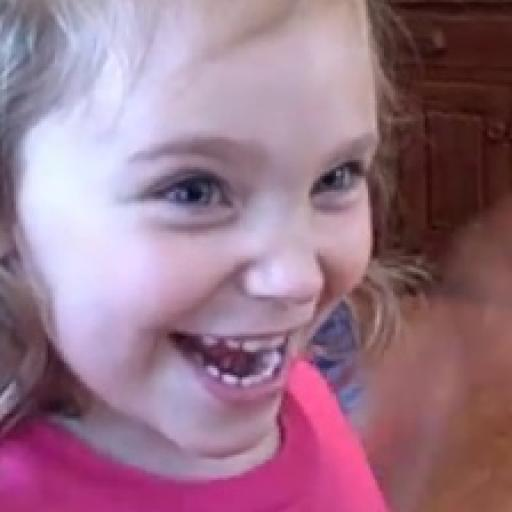Autism: (6, 6, 432, 473)
